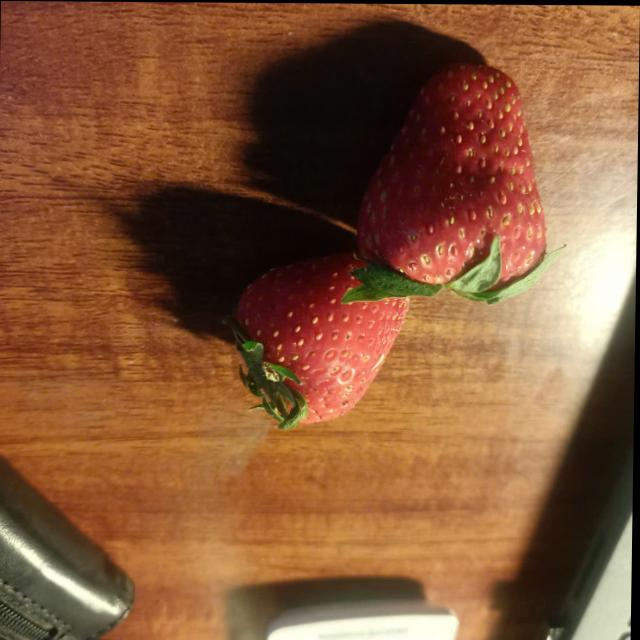DauTay: (205, 53, 581, 437)
